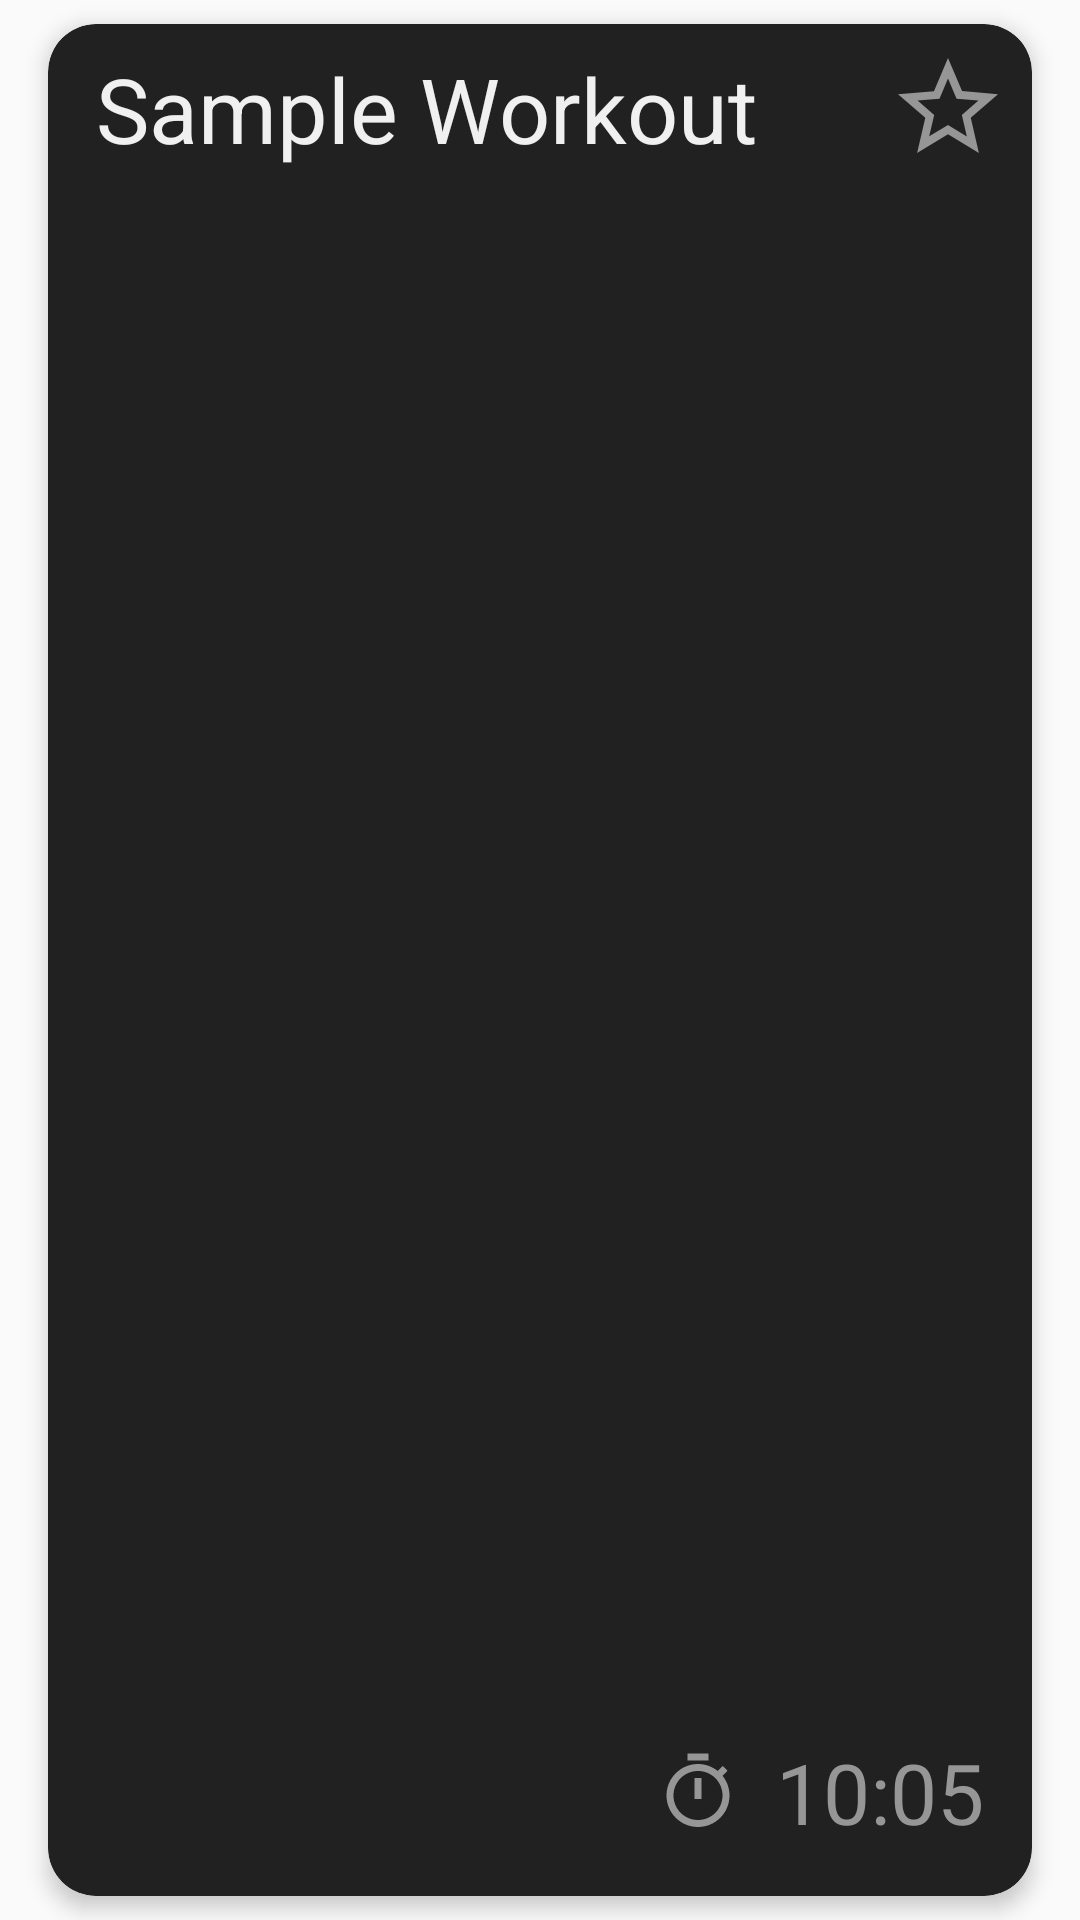

Screen size 1080w x 1920h. Icon name, then its center in pixels as [x,y]:
star empty: [948,105]
stopwatch: [698,1790]
